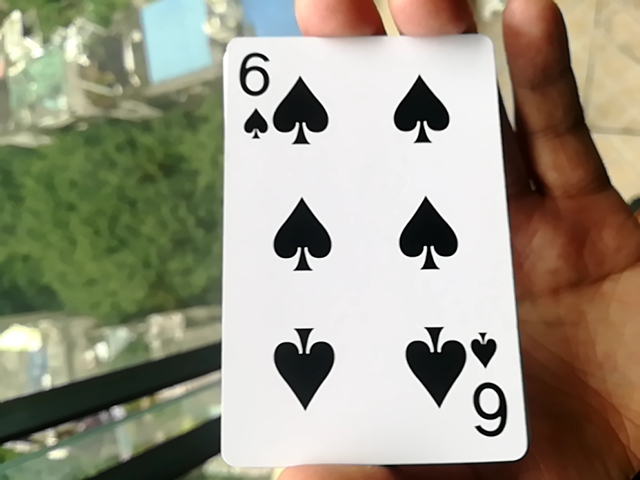ht 6: (203, 21, 527, 474)
